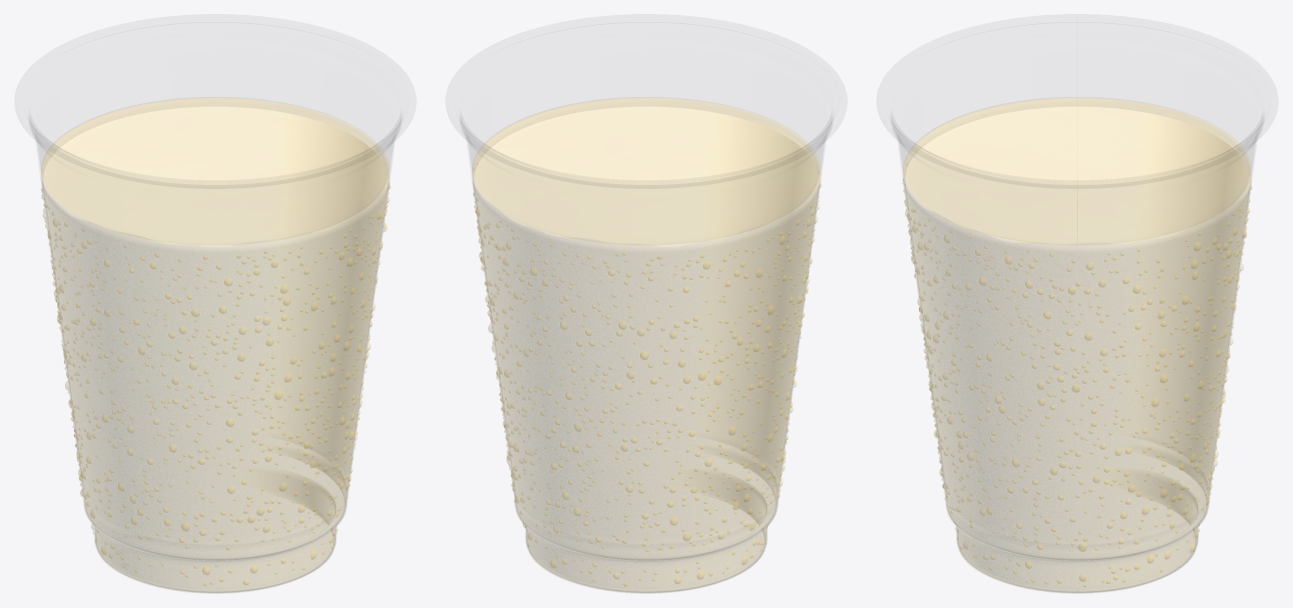
File: blender_juice_cup.glb
The picture shows the model from 3 angles, left to right: view 1: azimuth 30°, elevation 25°; view 2: azimuth 150°, elevation 25°; view 3: azimuth 270°, elevation 25°; orthographic projection.
Visible parts, largest first — view 1: Juice, Liner, Droplets, Droplets_S, Cup_PET; view 2: Juice, Liner, Droplets, Droplets_S, Cup_PET; view 3: Juice, Liner, Droplets, Droplets_S, Cup_PET.
Boxes of the visible parts, x1,y1,x2,y2 form: Juice: (41,97,389,592); Liner: (43,106,387,591); Droplets: (43,182,389,584); Droplets_S: (41,185,390,585); Cup_PET: (28,22,402,188); Juice: (472,97,820,592); Liner: (474,106,818,591); Droplets: (475,172,819,583); Droplets_S: (473,184,821,586); Cup_PET: (459,22,833,188); Juice: (903,97,1251,592); Liner: (905,106,1249,591); Droplets: (905,209,1249,581); Droplets_S: (902,179,1251,586); Cup_PET: (890,22,1264,188).
Bounding box in the file's own units: 0.0978 × 0.12 × 0.0978.
Materials: 5 (2 with a texture image).
